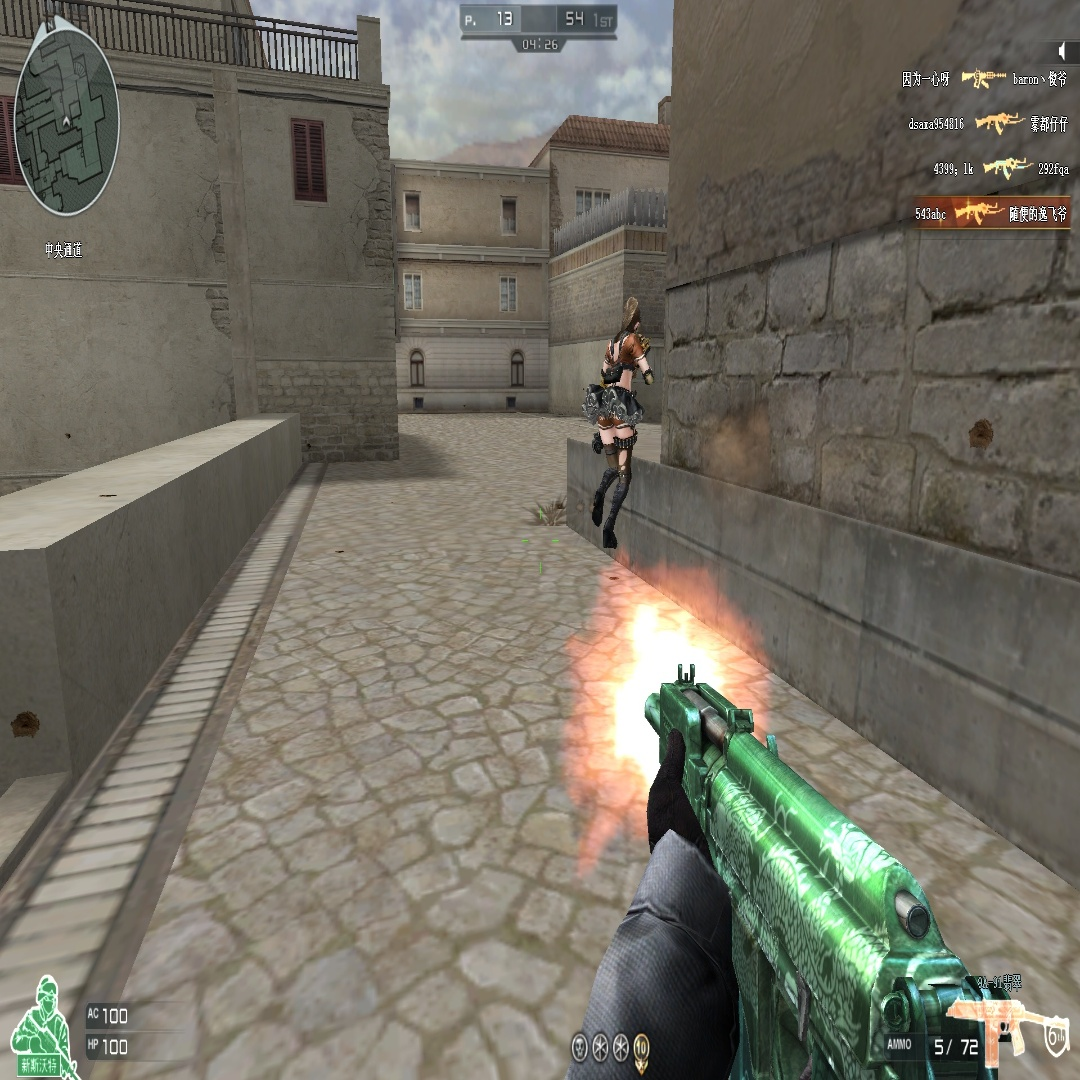head: (622, 300, 641, 336)
p: (590, 296, 653, 554)
